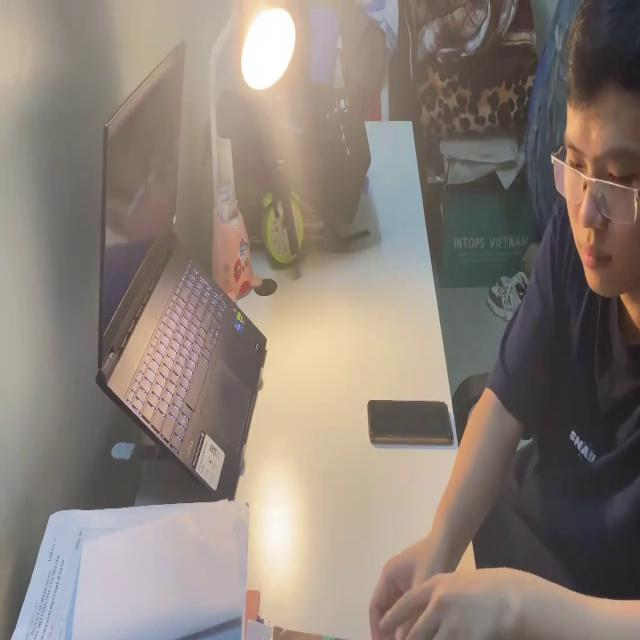book: (4, 495, 264, 640)
laptop: (92, 31, 266, 502)
phone: (366, 394, 453, 452)
student: (365, 0, 640, 640)
